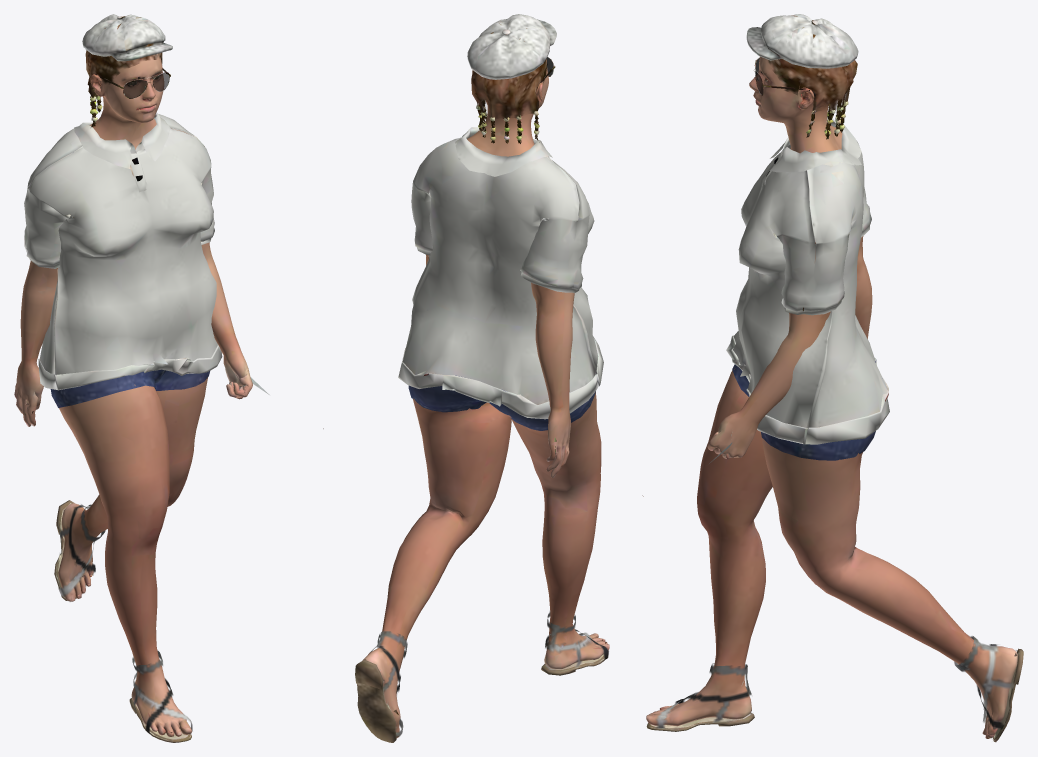
3 renders of one model, left to right at view 1: azimuth 30°, elevation 25°; view 2: azimuth 150°, elevation 25°; view 3: azimuth 270°, elevation 25°, orthographic. The views are drawn at different scales.
Visible parts, largest first — view 1: p03162; view 2: p03162; view 3: p03162.
Boxes of the visible parts, <box> form: p03162: <box>14,14,323,742</box>; p03162: <box>355,14,609,742</box>; p03162: <box>642,14,1023,742</box>.
Size of the model in its own units: 0.5608 by 1.72 by 0.834.
1 material, 1 textured.
